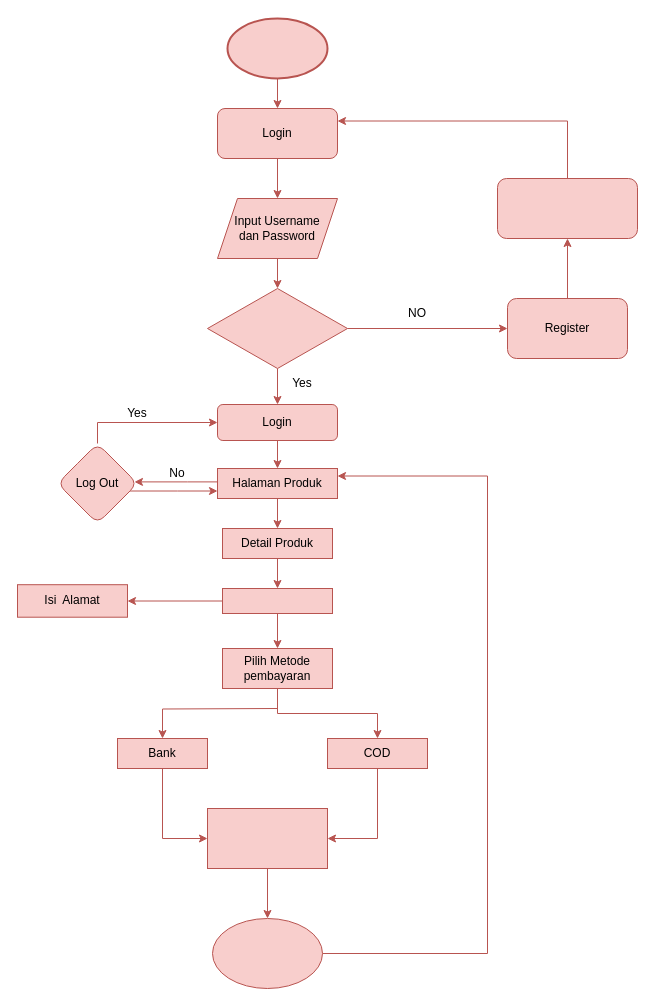
The diagram is 655 pixels wide and 1006 high, and some of its shapes have lost their labels. The shapes that lost their labels are listed below. From the top down, each one's centre as x and y in pixels, then its label:
the point at 277,48: Mulai
the point at 567,208: Input email, Username, no.Hp dan Password
the point at 277,328: Sudah punya akun?
the point at 277,601: Beli Produk
the point at 267,838: Konfirmasi Pembayaran
the point at 267,953: Selesai atau Kembali
